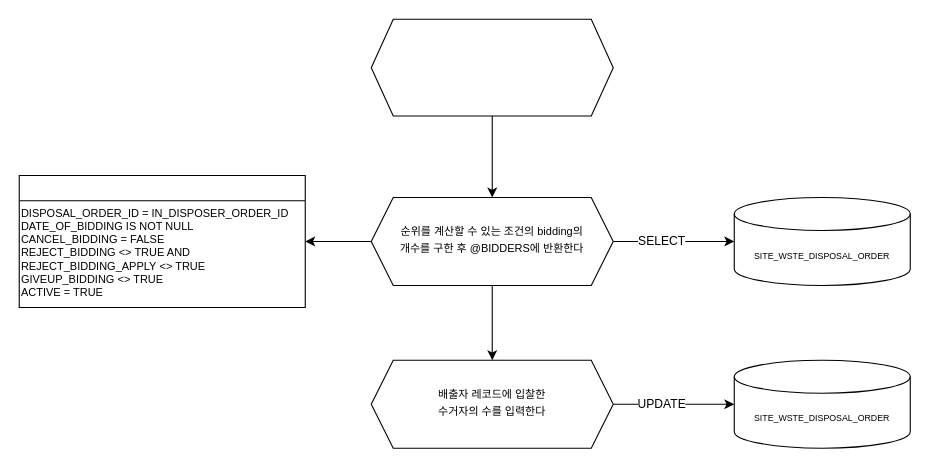
Image size: 930x468. Some labels were removed from this diagram. Each missing label, with the box of its shape:
CONDITION: (18, 174, 305, 307)
sp_req_current_time 현재 시간을 구한후 @REG_DT에 반환한다.: (370, 18, 613, 116)
